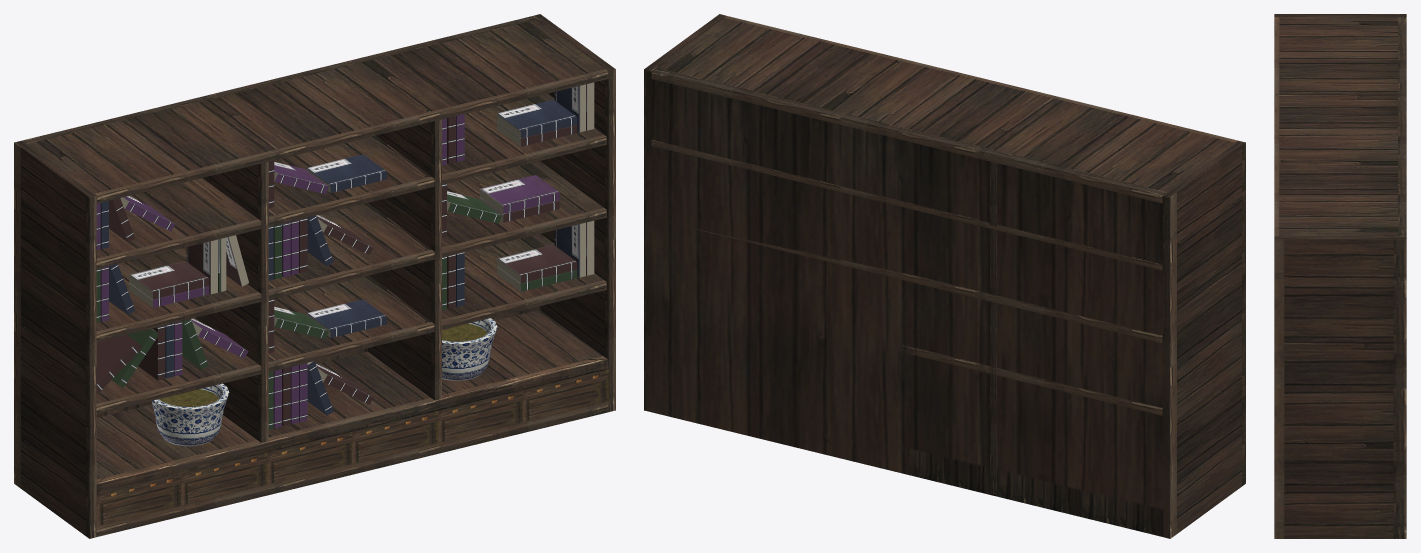
The model's file is Sark_5.FBX.
The picture shows the model from 3 angles, left to right: view 1: azimuth 30°, elevation 25°; view 2: azimuth 150°, elevation 25°; view 3: azimuth 270°, elevation 25°; orthographic projection. The views are drawn at different scales.
Parts seen in each view (by area): view 1: Sark_5; view 2: Sark_5; view 3: Sark_5.
Boxes of the visible parts, bbox=[...] form: Sark_5: bbox=[14, 14, 615, 538]; Sark_5: bbox=[644, 14, 1245, 538]; Sark_5: bbox=[1274, 14, 1406, 538].
Bounding box in the file's own units: 126 × 77.91 × 31.22.
